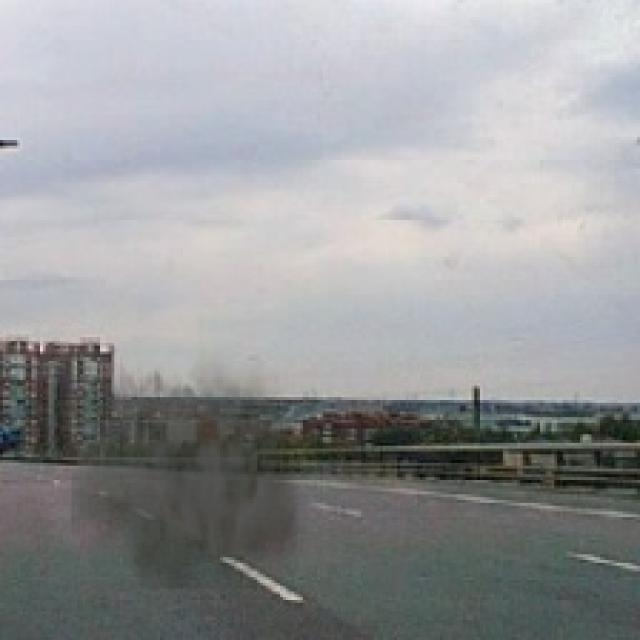Smoke: (71, 341, 312, 588)
